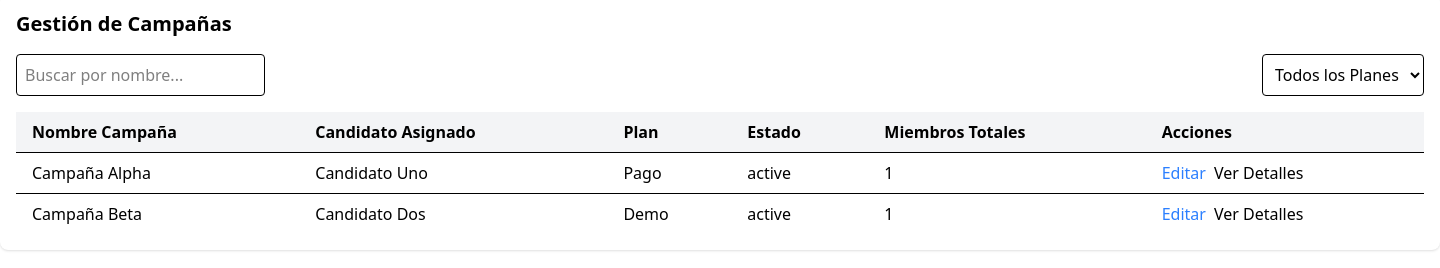
it: CampaignsTable › searches campaigns by name
The width and height of the screenshot is (1440, 268).
Expected: the text "Campaña Alpha" is shown, [16,152,299,194]
Type "Alpha" into the field with placeholder "Buscar por nombre...".
click(140, 75); type("Alpha")  # box [16,54,265,96]
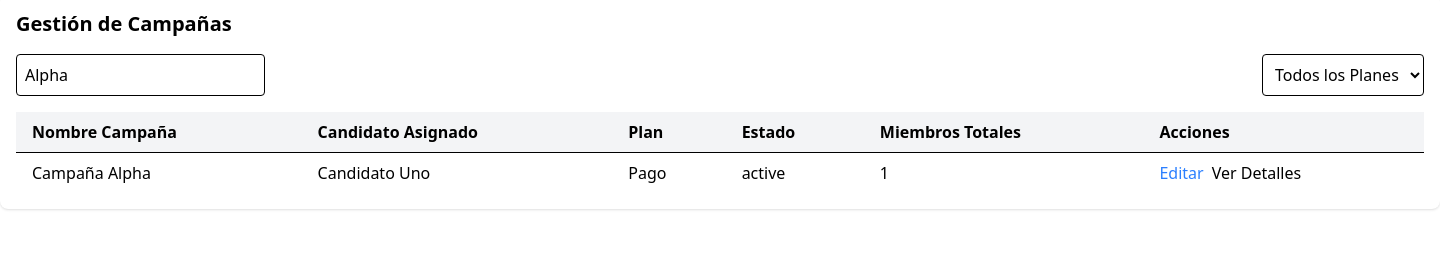
Expected: the text "Campaña Alpha" is shown, [16,152,302,193]
Expected: the text "Campaña Beta" is gone
